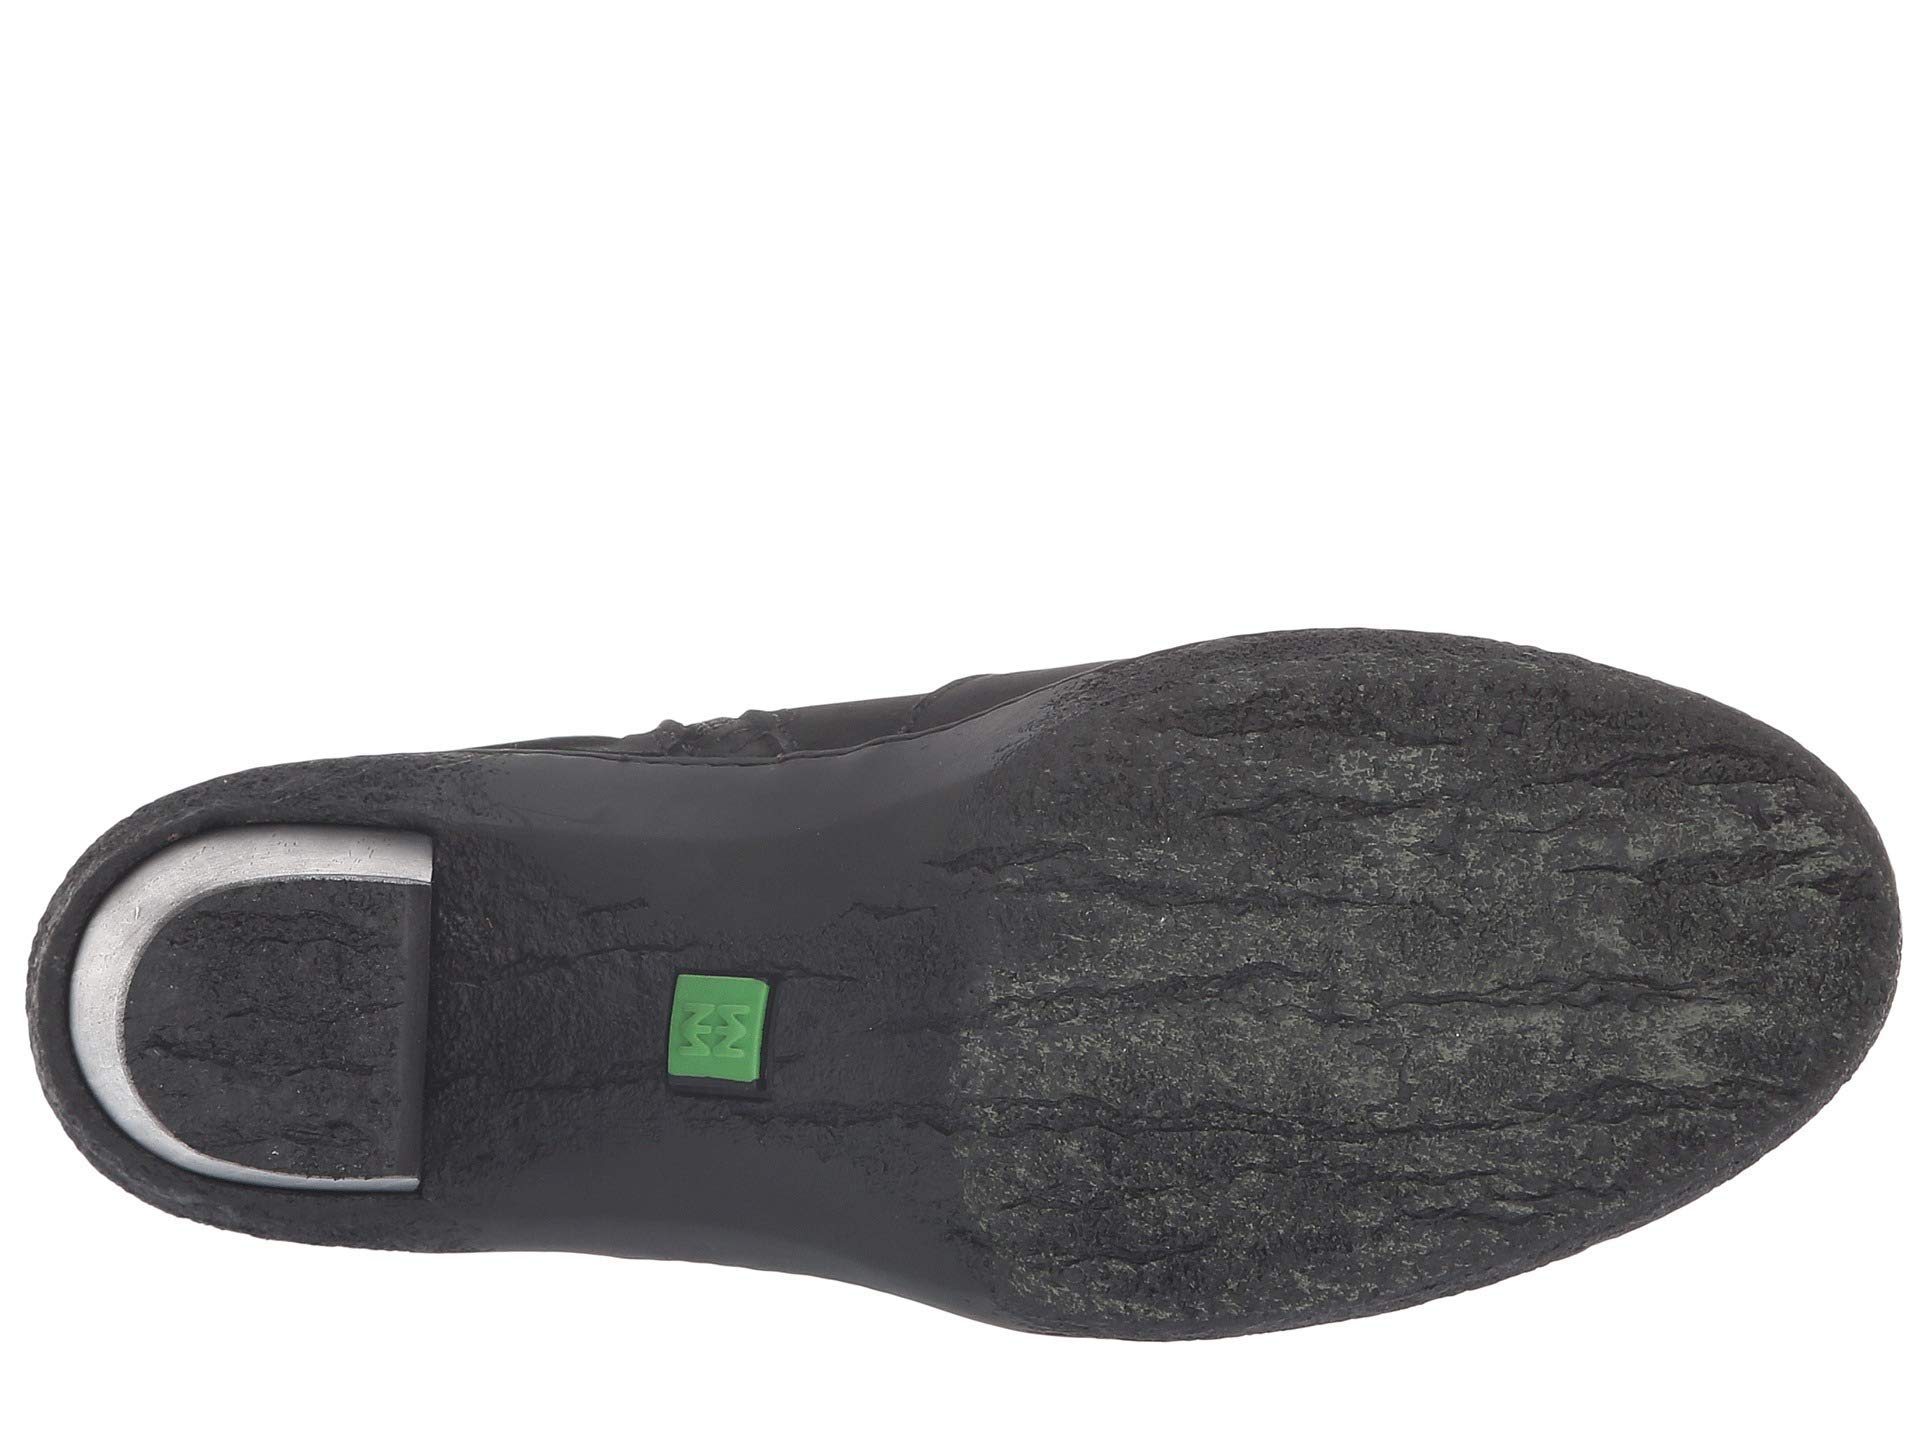other: (1138, 725, 1621, 1203)
quad: (649, 951, 794, 1113)
text: (649, 951, 794, 1113)
